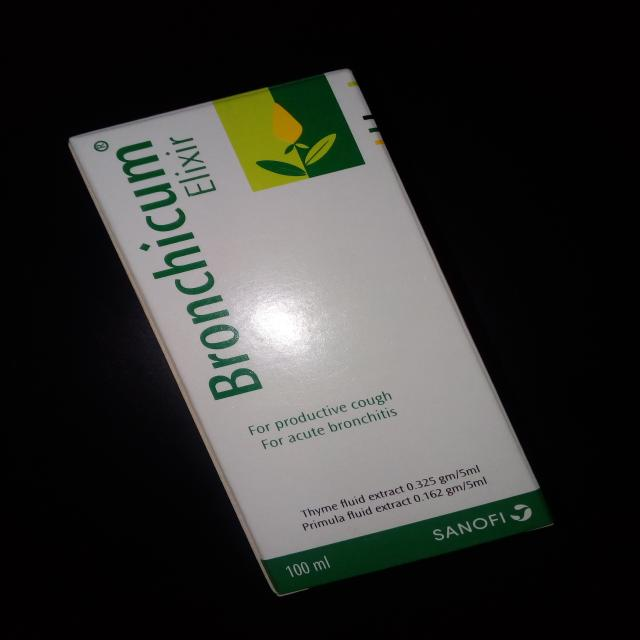Medicine: (59, 64, 554, 597)
